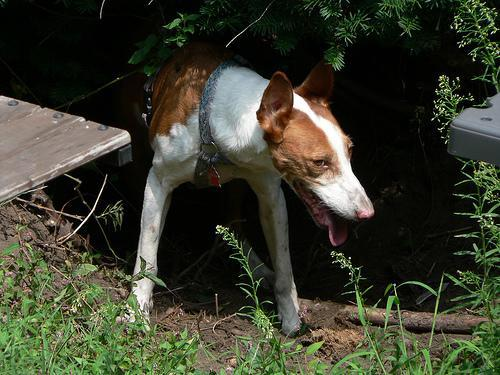Ibizan_hound: (113, 28, 377, 335)
